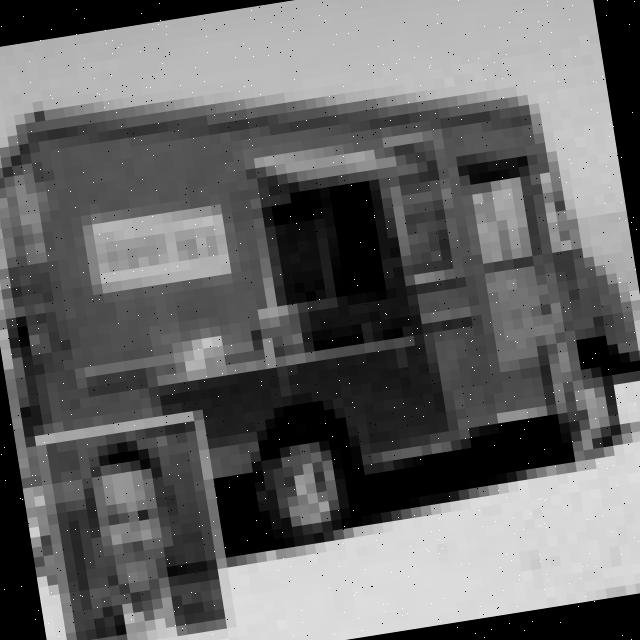trucks: (0, 12, 640, 588)
